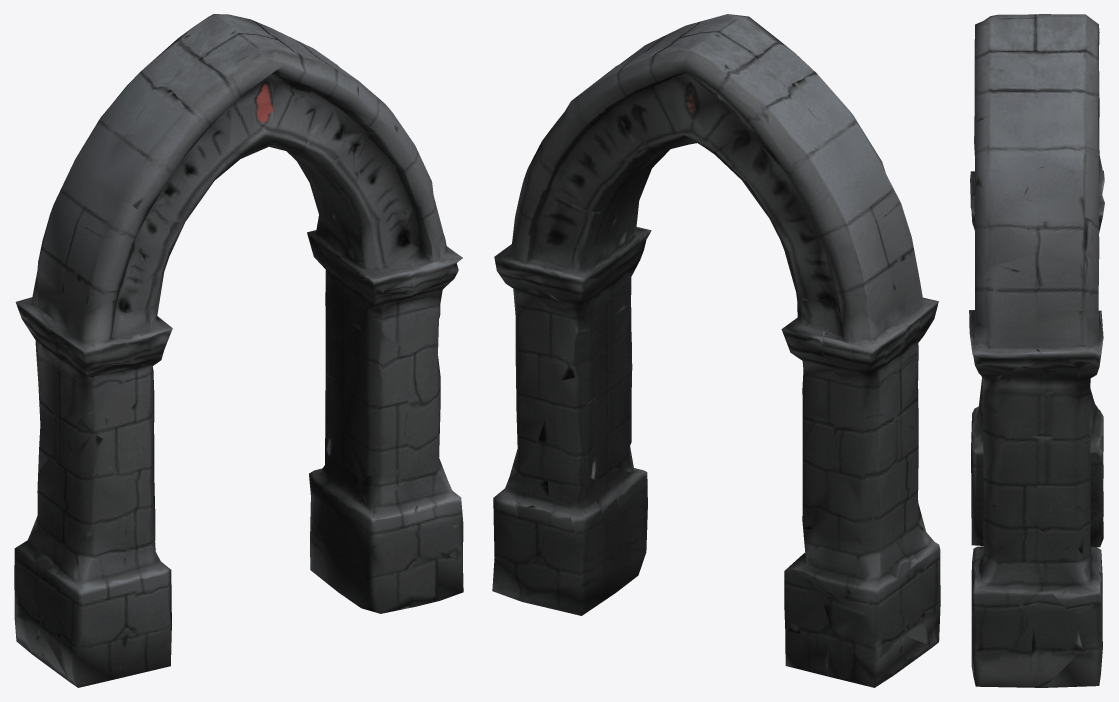
File: gate_archway.glb
The picture shows the model from 3 angles, left to right: view 1: azimuth 30°, elevation 25°; view 2: azimuth 150°, elevation 25°; view 3: azimuth 270°, elevation 25°; orthographic projection.
Bounding box in the file's own units: 1.38 × 2 × 0.4252.
Materials: 1 (1 with a texture image).
